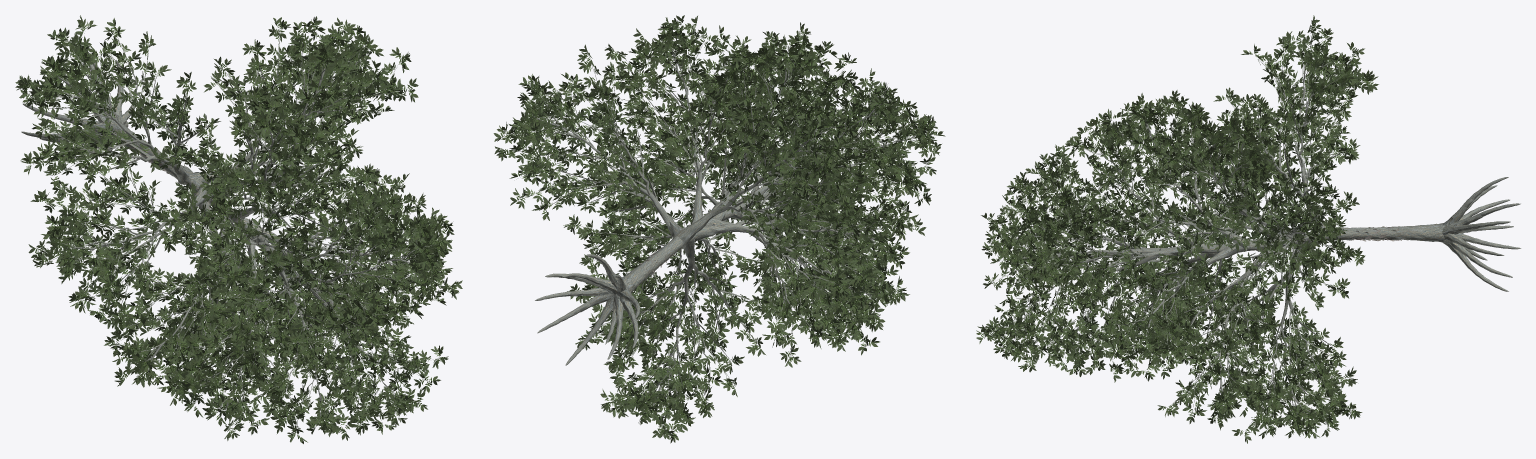
The picture shows the model from 3 angles, left to right: view 1: azimuth 30°, elevation 25°; view 2: azimuth 150°, elevation 25°; view 3: azimuth 270°, elevation 25°; orthographic projection. The views are drawn at different scales.
Parts seen in each view (by area): view 1: BL05m; view 2: BL05m; view 3: BL05m.
Part boxes in pixels (x1,y1,x2,y2): BL05m: (15,15,462,443); BL05m: (493,15,945,443); BL05m: (976,15,1521,443).
Bounding box in the file's own units: 128 × 131 × 177.
Materials: 5 (5 with a texture image).
